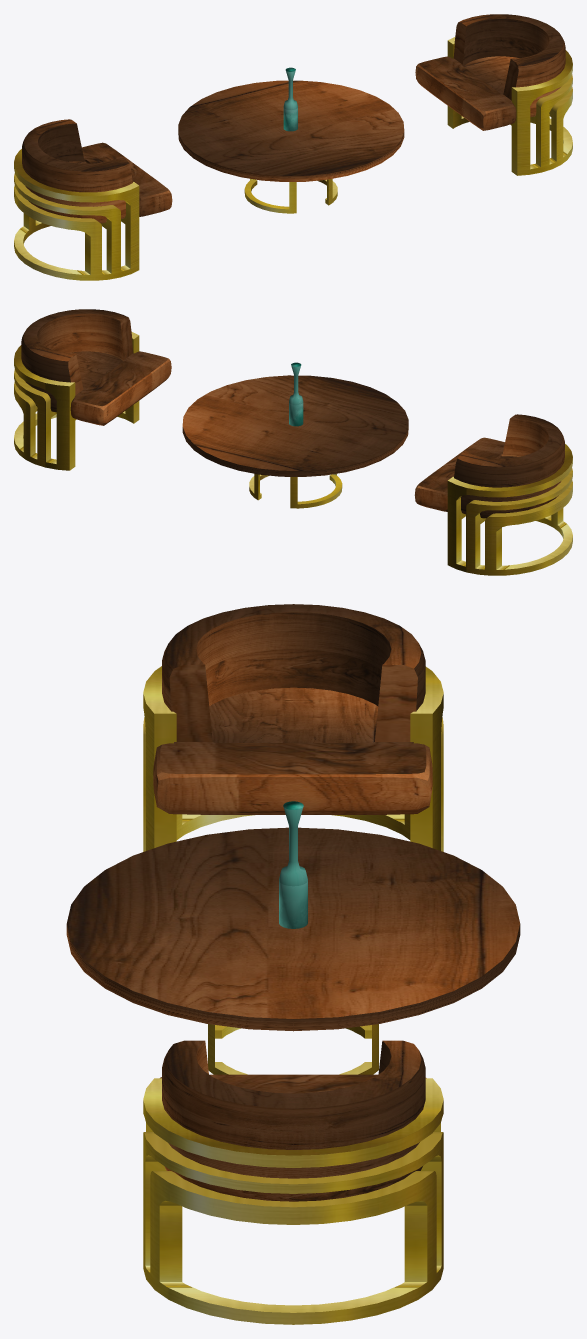
File: sala.fbx
The picture shows the model from 3 angles, top to bottom: view 1: azimuth 30°, elevation 25°; view 2: azimuth 150°, elevation 25°; view 3: azimuth 270°, elevation 25°; orthographic projection. The views are drawn at different scales.
Parts seen in each view (by area): view 1: Cylinder.044, Cylinder.042, Cylinder.041, Cylinder.040, Cylinder.043, Base, Cylinder.039; view 2: Cylinder.044, Cylinder.042, Cylinder.041, Cylinder.040, Cylinder.043, Base, Cylinder.039; view 3: Cylinder.044, Cylinder.040, Cylinder.043, Cylinder.042, Cylinder.041, Cylinder.039, Base.
Part boxes in pixels (<box>): Cylinder.044: <box>178,80,404,181</box>; Cylinder.042: <box>415,14,565,130</box>; Cylinder.041: <box>14,149,139,280</box>; Cylinder.040: <box>22,119,172,223</box>; Cylinder.043: <box>447,37,572,175</box>; Base: <box>244,178,337,213</box>; Cylinder.039: <box>283,67,297,131</box>; Cylinder.044: <box>182,375,408,476</box>; Cylinder.042: <box>21,309,171,425</box>; Cylinder.041: <box>447,444,572,575</box>; Cylinder.040: <box>414,414,564,518</box>; Cylinder.043: <box>14,332,139,470</box>; Base: <box>249,473,342,508</box>; Cylinder.039: <box>289,362,303,426</box>; Cylinder.044: <box>66,827,520,1031</box>; Cylinder.040: <box>153,604,432,814</box>; Cylinder.043: <box>143,1078,443,1324</box>; Cylinder.042: <box>160,1040,426,1201</box>; Cylinder.041: <box>143,666,443,851</box>; Cylinder.039: <box>279,801,307,928</box>; Base: <box>208,1024,378,1074</box>.
Size of the model in its own units: 3602 by 830 by 1318.
